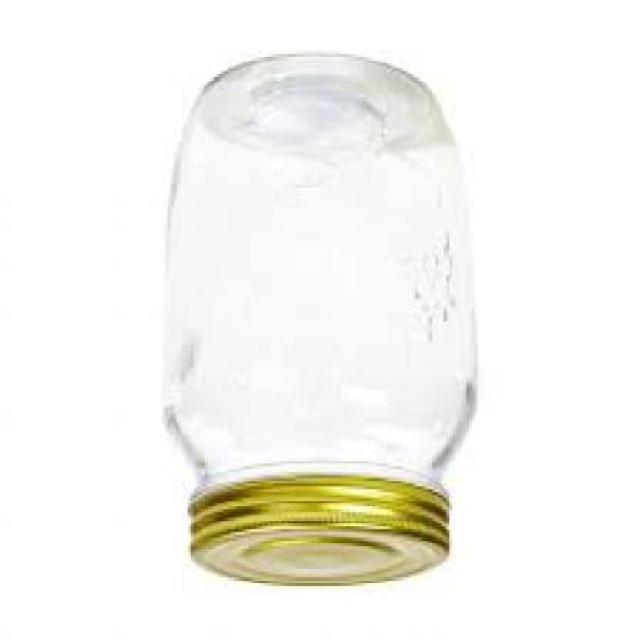GLASS: (156, 57, 478, 503)
METAL: (185, 478, 446, 588)
